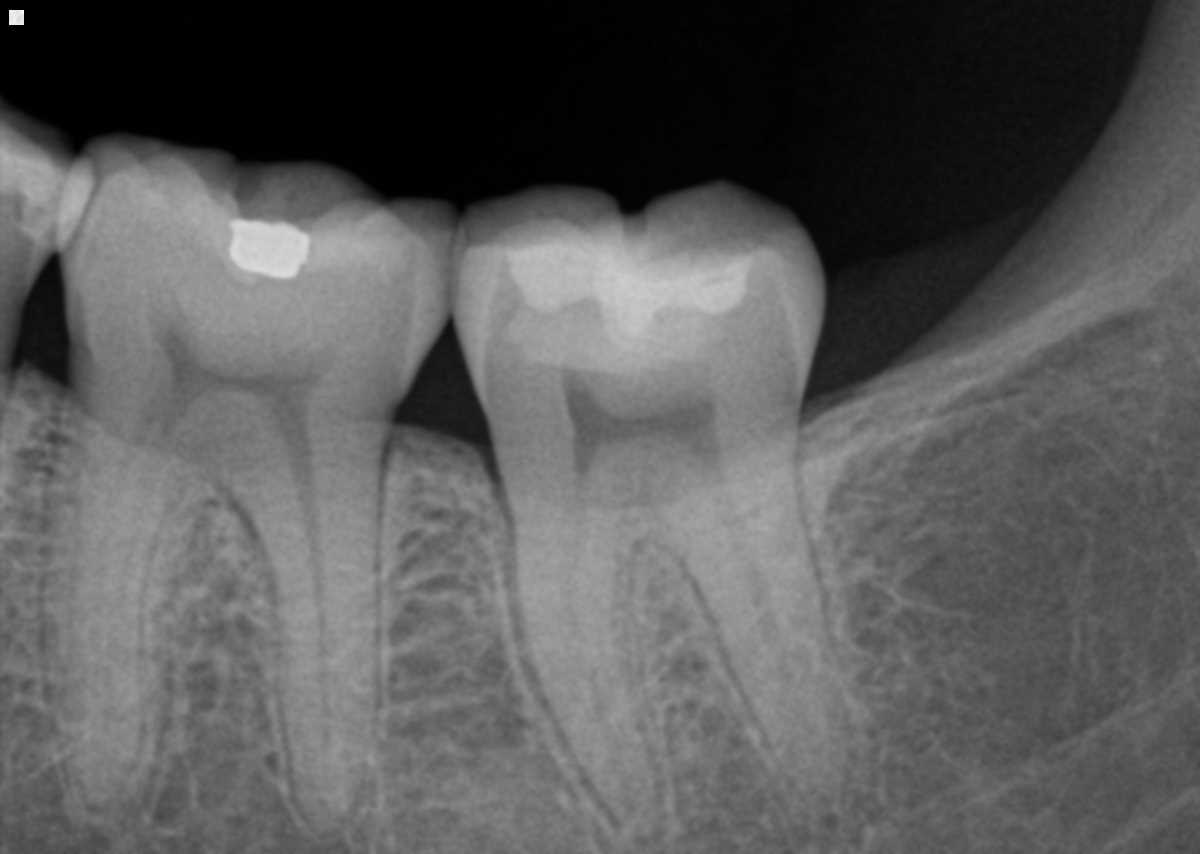Distal Canal: (691, 466, 832, 779), (286, 437, 332, 771)
Distal Root: (643, 425, 855, 840), (237, 425, 385, 841)
Mesial Canal: (562, 471, 641, 819)
Mesial Root: (488, 447, 673, 849), (35, 404, 185, 820)
